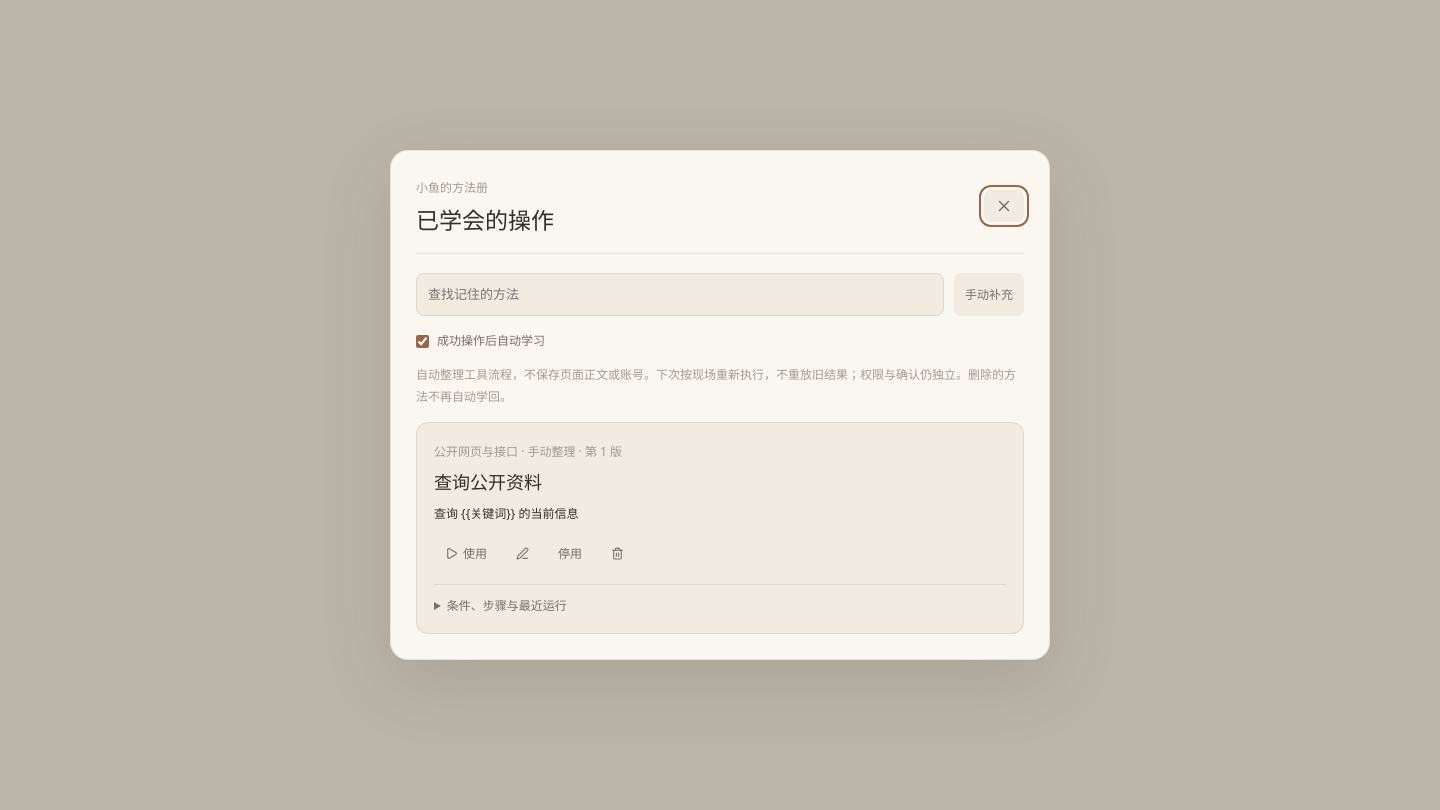
reviewable methods UI › does not silently overwrite a method that was edited elsewhere
The image size is (1440, 810).
Click the button named "编辑方法 查询公开资料" at (522, 554), box [505,536,540,572]
(page scrolled)
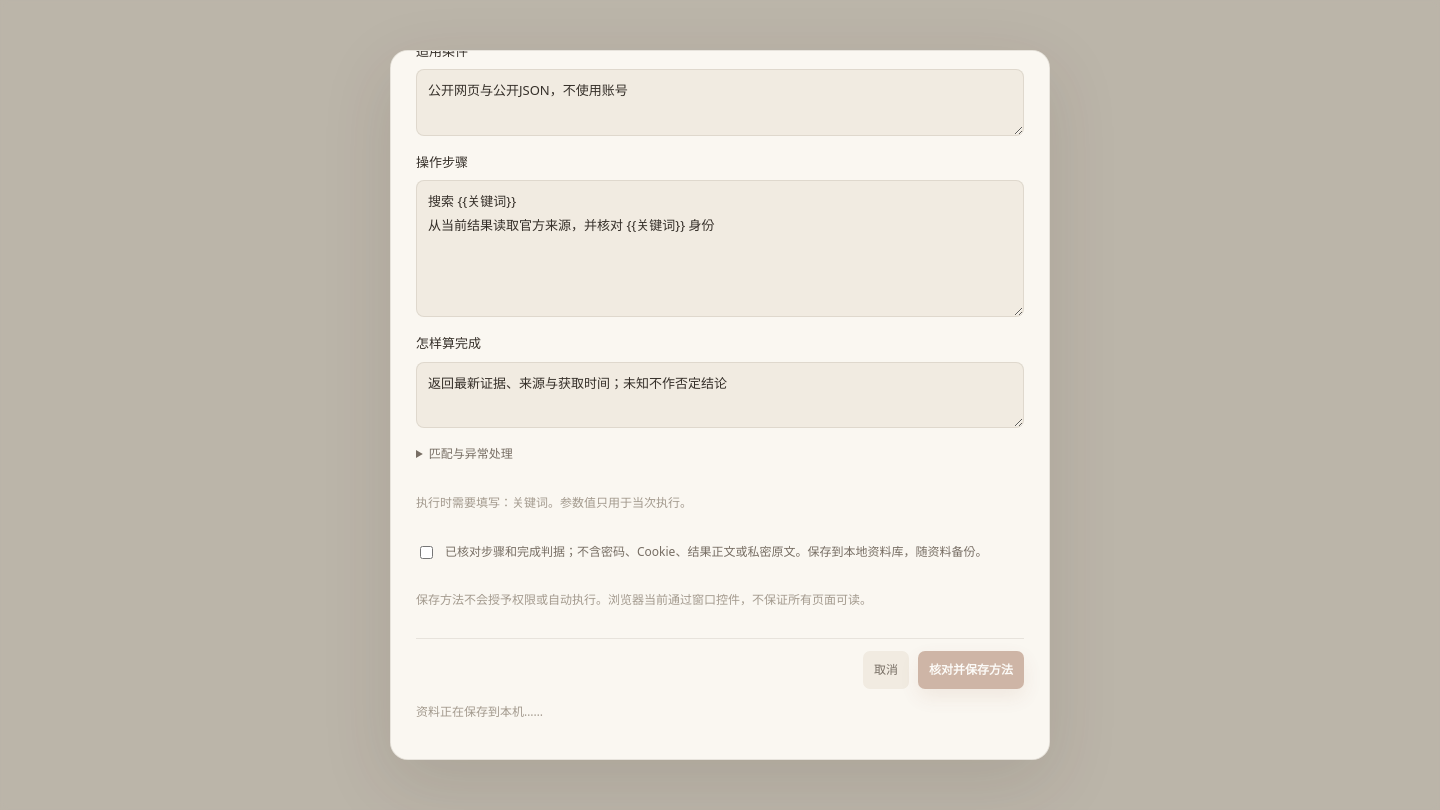
Click the checkbox at (426, 552), box [420,546,433,559]
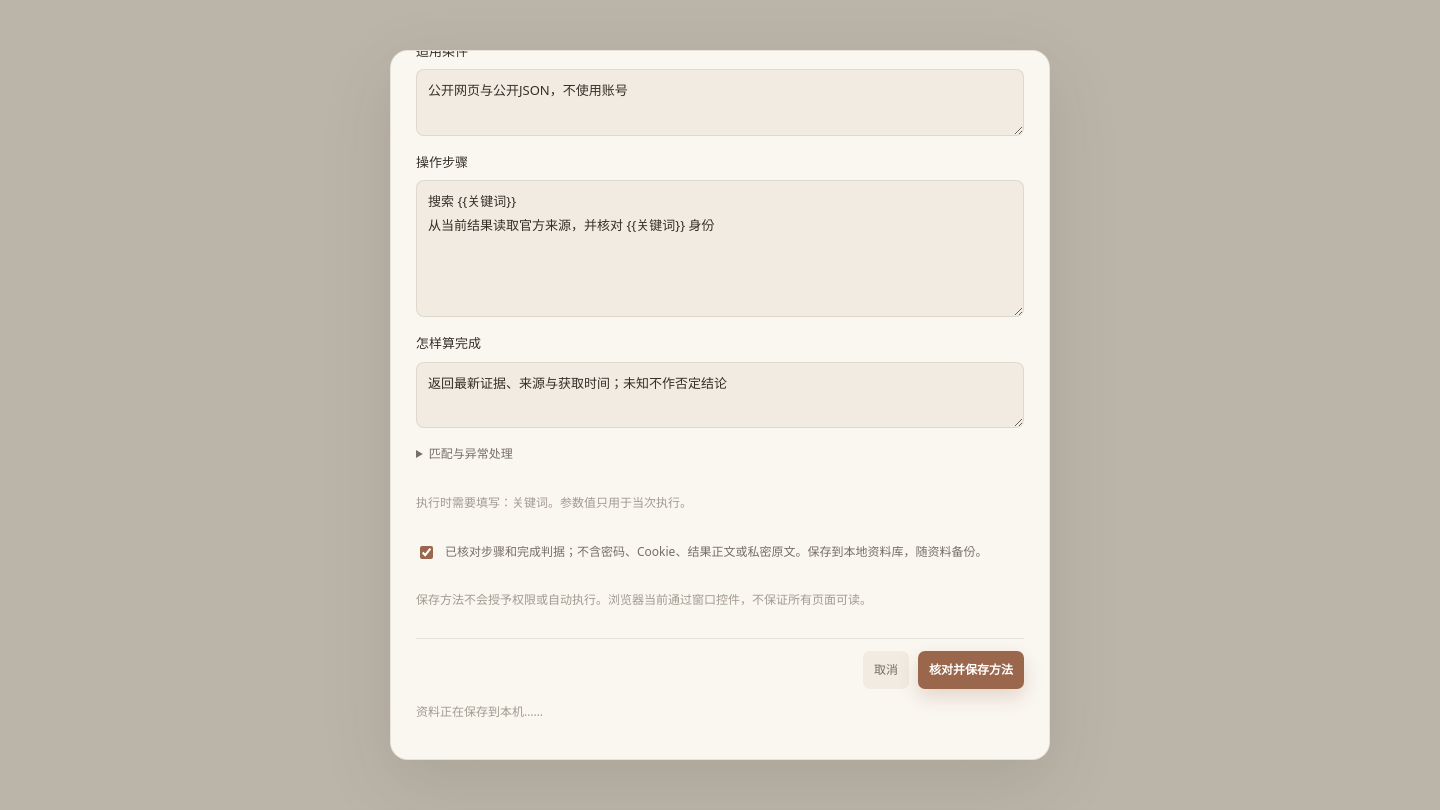
Click the button "核对并保存方法" at (971, 670), box [918,651,1024,689]
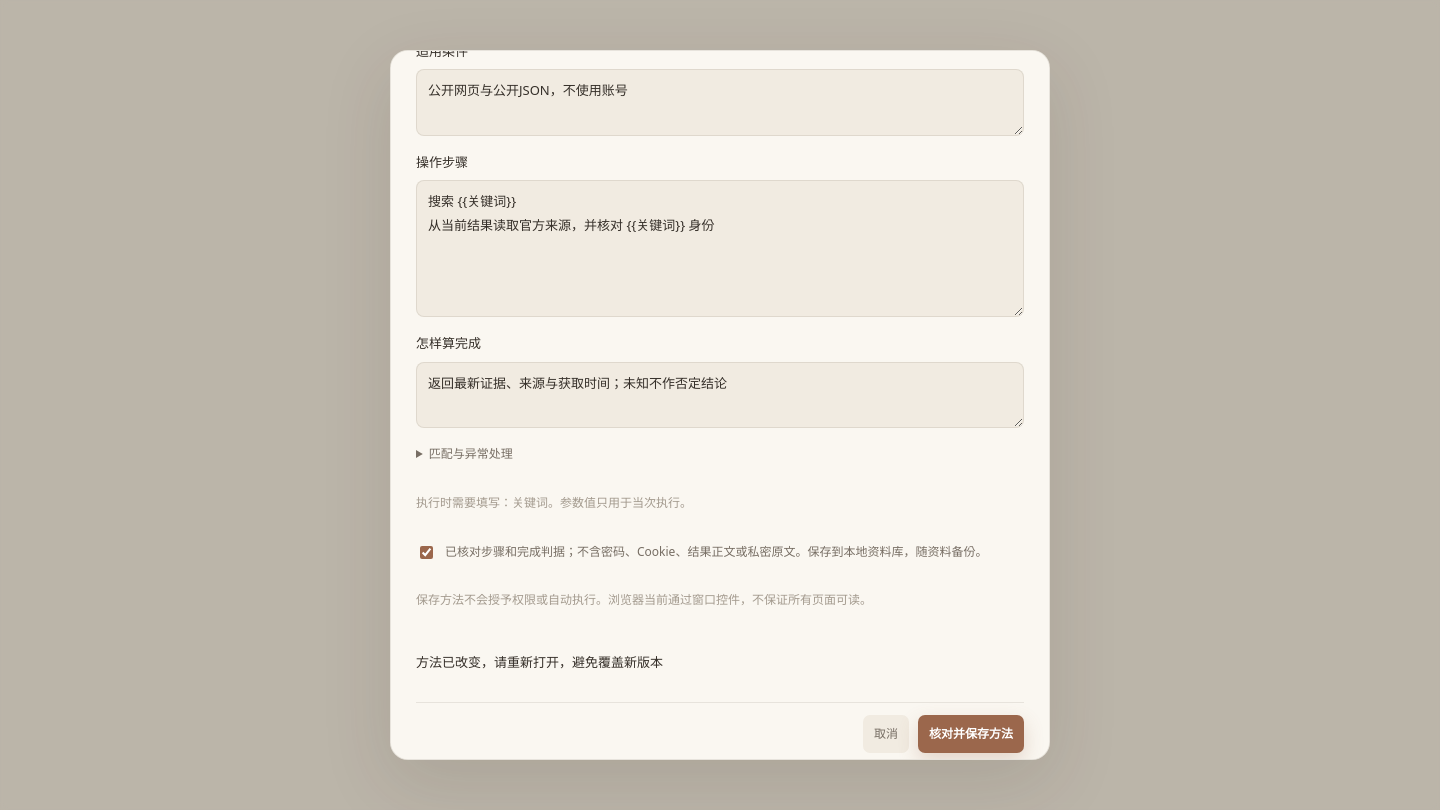
Check: the message shows "方法已改变", box [416,653,663,671]
